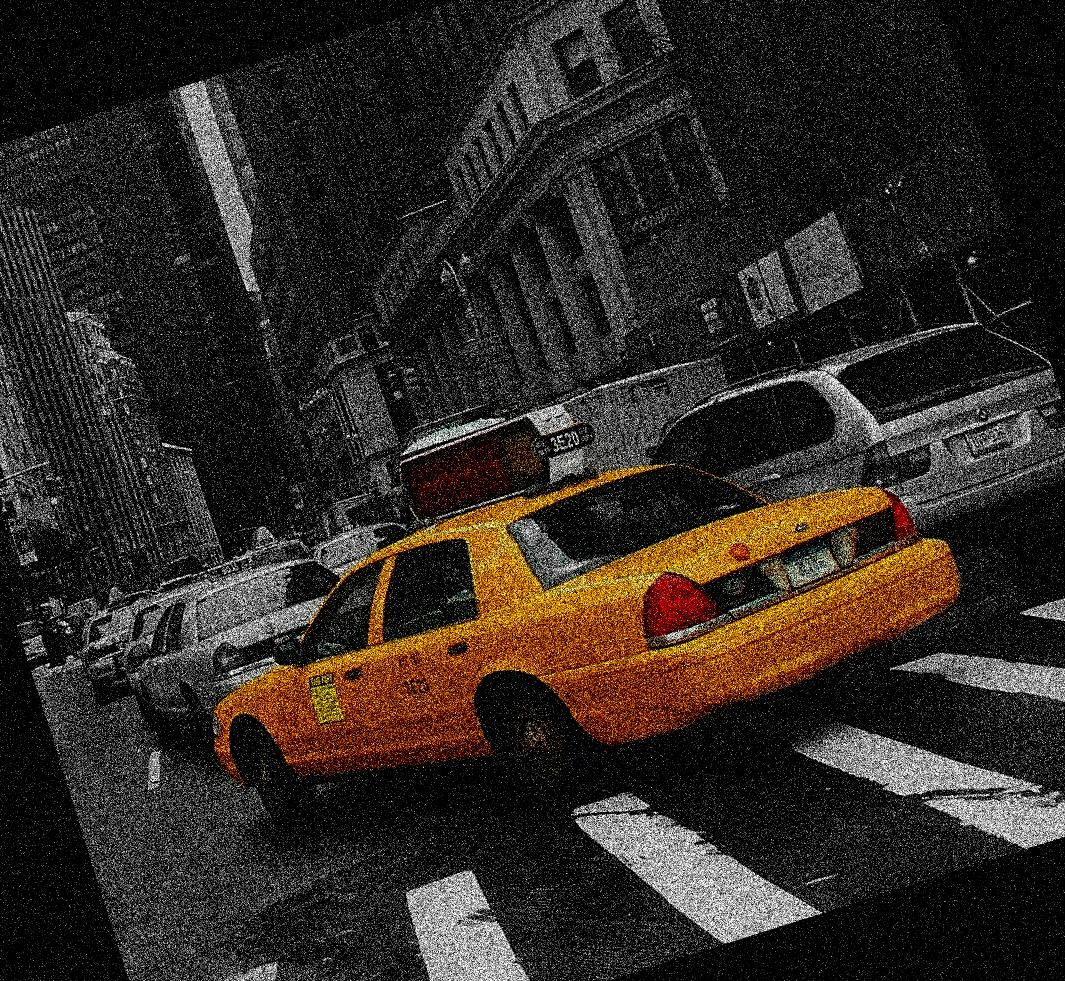taxi: (171, 462, 944, 807)
